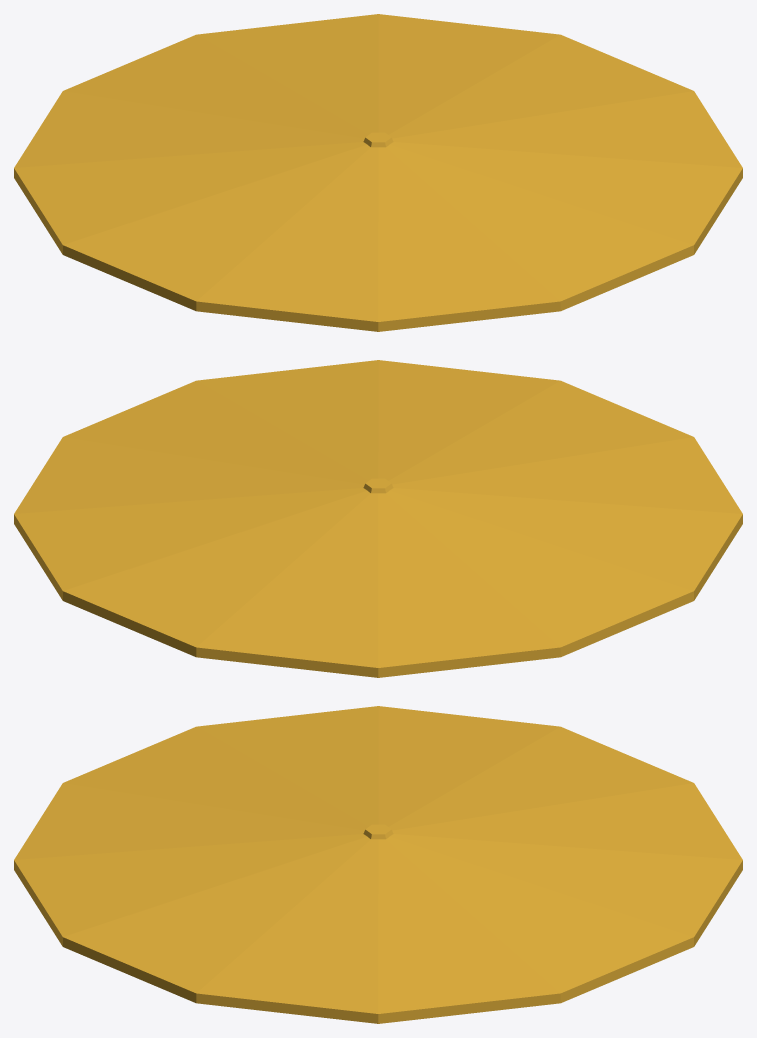
File: cymbols.fbx
3 views of the same model, one above another, from view 1: azimuth 30°, elevation 25°; view 2: azimuth 150°, elevation 25°; view 3: azimuth 270°, elevation 25° (orthographic).
Visible parts, largest first — view 1: Cylinder; view 2: Cylinder; view 3: Cylinder.
Boxes of the visible parts, x1,y1,x2,y2 form: Cylinder: [14, 14, 742, 331]; Cylinder: [14, 360, 742, 677]; Cylinder: [14, 706, 742, 1023].
Size of the model in its own units: 1.33 by 0.0818 by 1.33.
